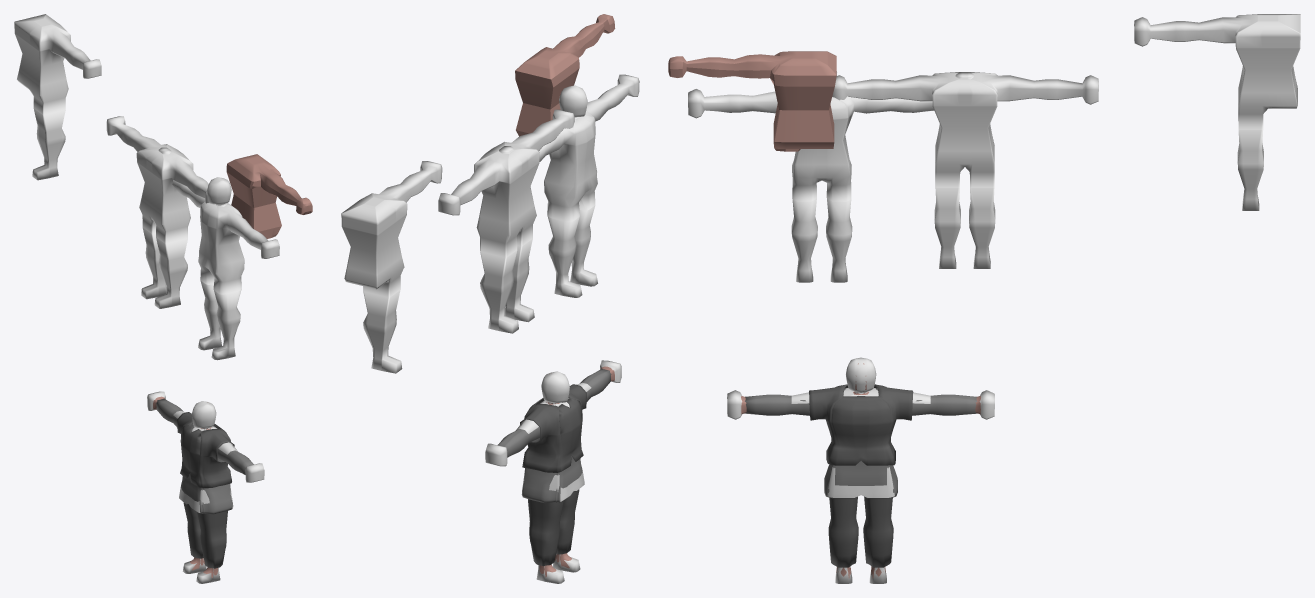
The model's file is Nai.fbx.
3 views of the same model, side by side, from view 1: azimuth 30°, elevation 25°; view 2: azimuth 150°, elevation 25°; view 3: azimuth 270°, elevation 25° (orthographic). The views are drawn at different scales.
Parts seen in each view (by area): view 1: Cube.001, Cube.003, Cube.002, Cube, Shirt_2, Pants, Shirt_1, Cube.005, ShirtTest; view 2: Cube.001, Cube.003, Cube.002, Cube, Shirt_2, Pants, Shirt_1, Cube.005, ShirtTest, Nai; view 3: Cube.001, Cube.002, Cube.003, Cube, Shirt_2, Shirt_1, Pants, Cube.005, ShirtTest.
Boxes of the visible parts, <box> form: Cube.001: <box>106,116,208,308</box>; Cube.003: <box>172,177,279,360</box>; Cube.002: <box>14,14,101,180</box>; Cube: <box>226,154,312,238</box>; Shirt_2: <box>177,412,234,488</box>; Pants: <box>183,502,227,568</box>; Shirt_1: <box>156,398,253,514</box>; Cube.005: <box>147,391,264,583</box>; ShirtTest: <box>173,411,238,512</box>; Cube.001: <box>438,109,574,333</box>; Cube.003: <box>539,74,639,297</box>; Cube.002: <box>341,161,442,373</box>; Cube: <box>515,14,615,136</box>; Shirt_2: <box>520,384,586,472</box>; Pants: <box>528,489,579,566</box>; Shirt_1: <box>497,368,611,502</box>; Cube.005: <box>485,360,621,583</box>; ShirtTest: <box>515,382,591,501</box>; Nai: <box>539,366,614,577</box>; Cube.001: <box>832,72,1098,268</box>; Cube.002: <box>1134,14,1300,210</box>; Cube.003: <box>688,71,934,282</box>; Cube: <box>668,51,836,151</box>; Shirt_2: <box>809,384,913,465</box>; Shirt_1: <box>744,388,977,498</box>; Pants: <box>828,496,893,567</box>; Cube.005: <box>727,357,994,583</box>; ShirtTest: <box>791,388,930,497</box>.
Bounding box in the file's own units: 206 × 1360 × 1393.
